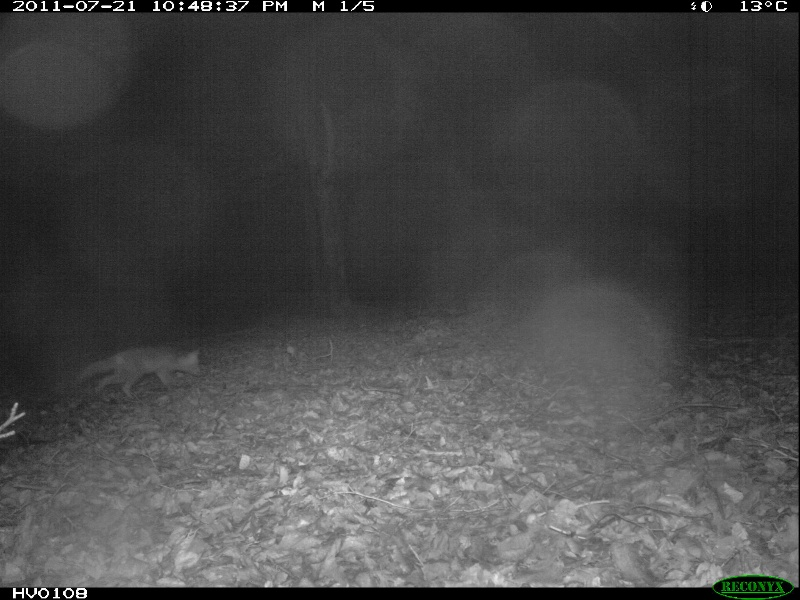fox: (76, 343, 208, 403)
